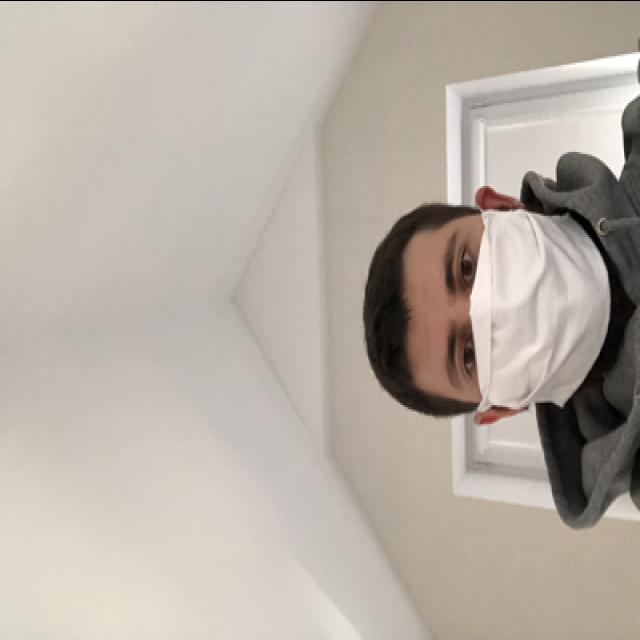with_mask: (426, 207, 612, 410)
